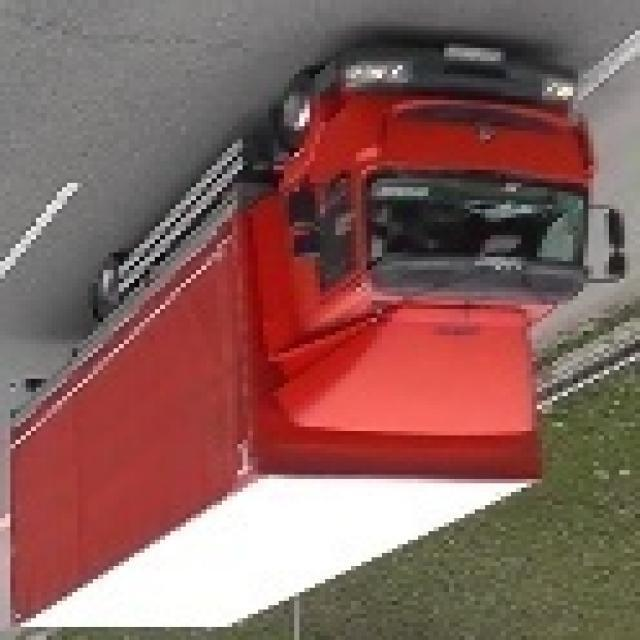truck: (0, 44, 619, 636)
